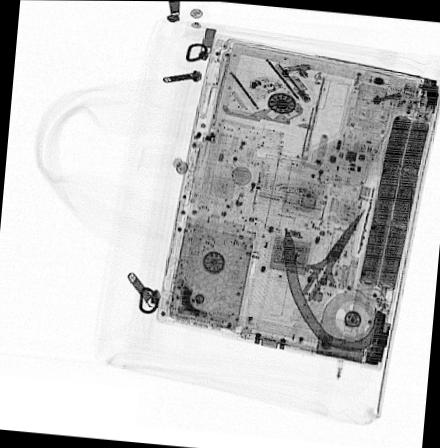Scissors: (295, 204, 366, 308)
